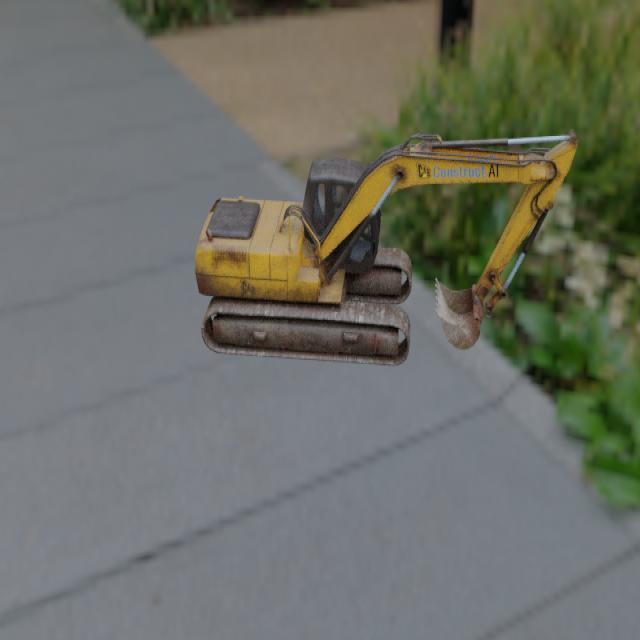excavator: (194, 128, 578, 365)
